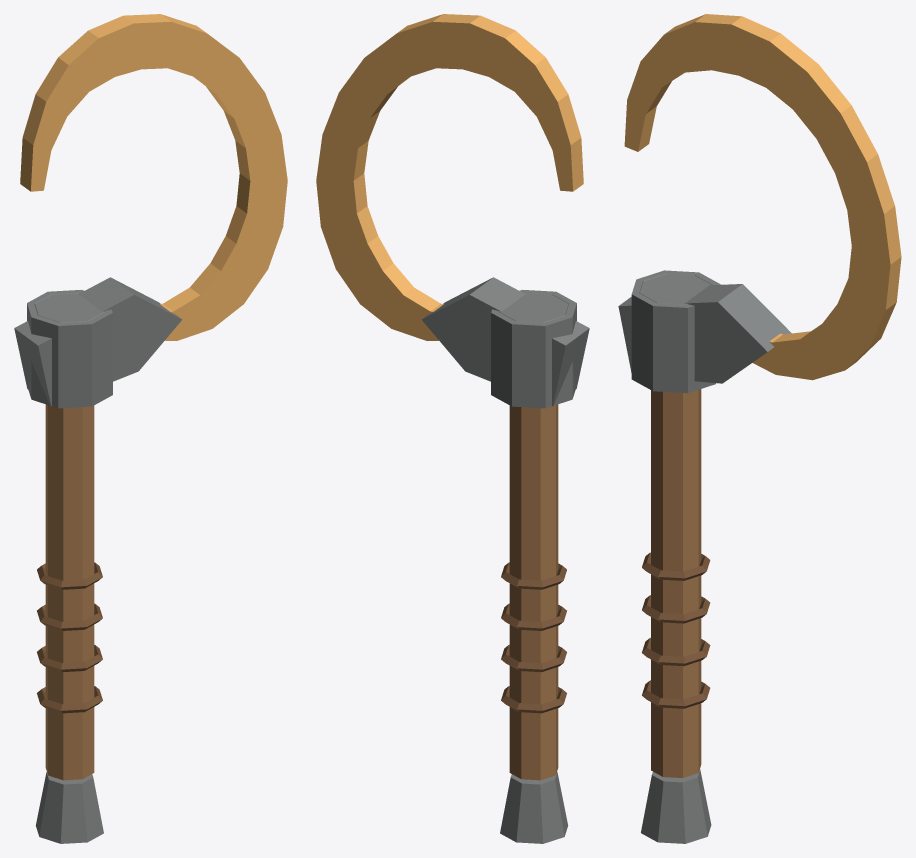
File: t6_sickle.glb
3 renders of one model, left to right at view 1: azimuth 30°, elevation 25°; view 2: azimuth 150°, elevation 25°; view 3: azimuth 330°, elevation 25°, orthographic. The views are drawn at different scales.
Parts seen in each view (by area): view 1: CurvedBlade, WoodHandle, BladeSocket, BladeBasePlate, BottomPommel, LeatherWrap3, LeatherWrap1, LeatherWrap4, LeatherWrap2; view 2: CurvedBlade, WoodHandle, BladeSocket, BladeBasePlate, BottomPommel, LeatherWrap3, LeatherWrap1, LeatherWrap4, LeatherWrap2; view 3: CurvedBlade, WoodHandle, BladeSocket, BladeBasePlate, BottomPommel, LeatherWrap4, LeatherWrap2, LeatherWrap3, LeatherWrap1.
Part boxes in pixels (left/top/right/bottom): CurvedBlade: left=20, top=14, right=287, bottom=340; WoodHandle: left=45, top=404, right=94, bottom=780; BladeSocket: left=27, top=289, right=112, bottom=408; BladeBasePlate: left=14, top=277, right=182, bottom=406; BottomPommel: left=35, top=772, right=103, bottom=843; LeatherWrap3: left=37, top=603, right=102, bottom=630; LeatherWrap1: left=37, top=686, right=102, bottom=713; LeatherWrap4: left=37, top=562, right=102, bottom=589; LeatherWrap2: left=37, top=644, right=102, bottom=672; CurvedBlade: left=316, top=14, right=583, bottom=340; WoodHandle: left=509, top=404, right=558, bottom=780; BladeSocket: left=491, top=289, right=576, bottom=408; BladeBasePlate: left=421, top=277, right=589, bottom=406; BottomPommel: left=500, top=772, right=568, bottom=843; LeatherWrap3: left=501, top=603, right=566, bottom=630; LeatherWrap1: left=501, top=686, right=566, bottom=713; LeatherWrap4: left=501, top=562, right=566, bottom=589; LeatherWrap2: left=501, top=644, right=566, bottom=672; CurvedBlade: left=624, top=14, right=901, bottom=380; WoodHandle: left=651, top=389, right=701, bottom=777; BladeSocket: left=631, top=270, right=720, bottom=393; BladeBasePlate: left=618, top=284, right=791, bottom=383; BottomPommel: left=641, top=769, right=711, bottom=843; LeatherWrap4: left=642, top=552, right=710, bottom=580; LeatherWrap2: left=642, top=637, right=710, bottom=666; LeatherWrap3: left=642, top=595, right=710, bottom=623; LeatherWrap1: left=642, top=680, right=710, bottom=708.
Size of the model in its own units: 0.5877 by 1.74 by 0.176.
